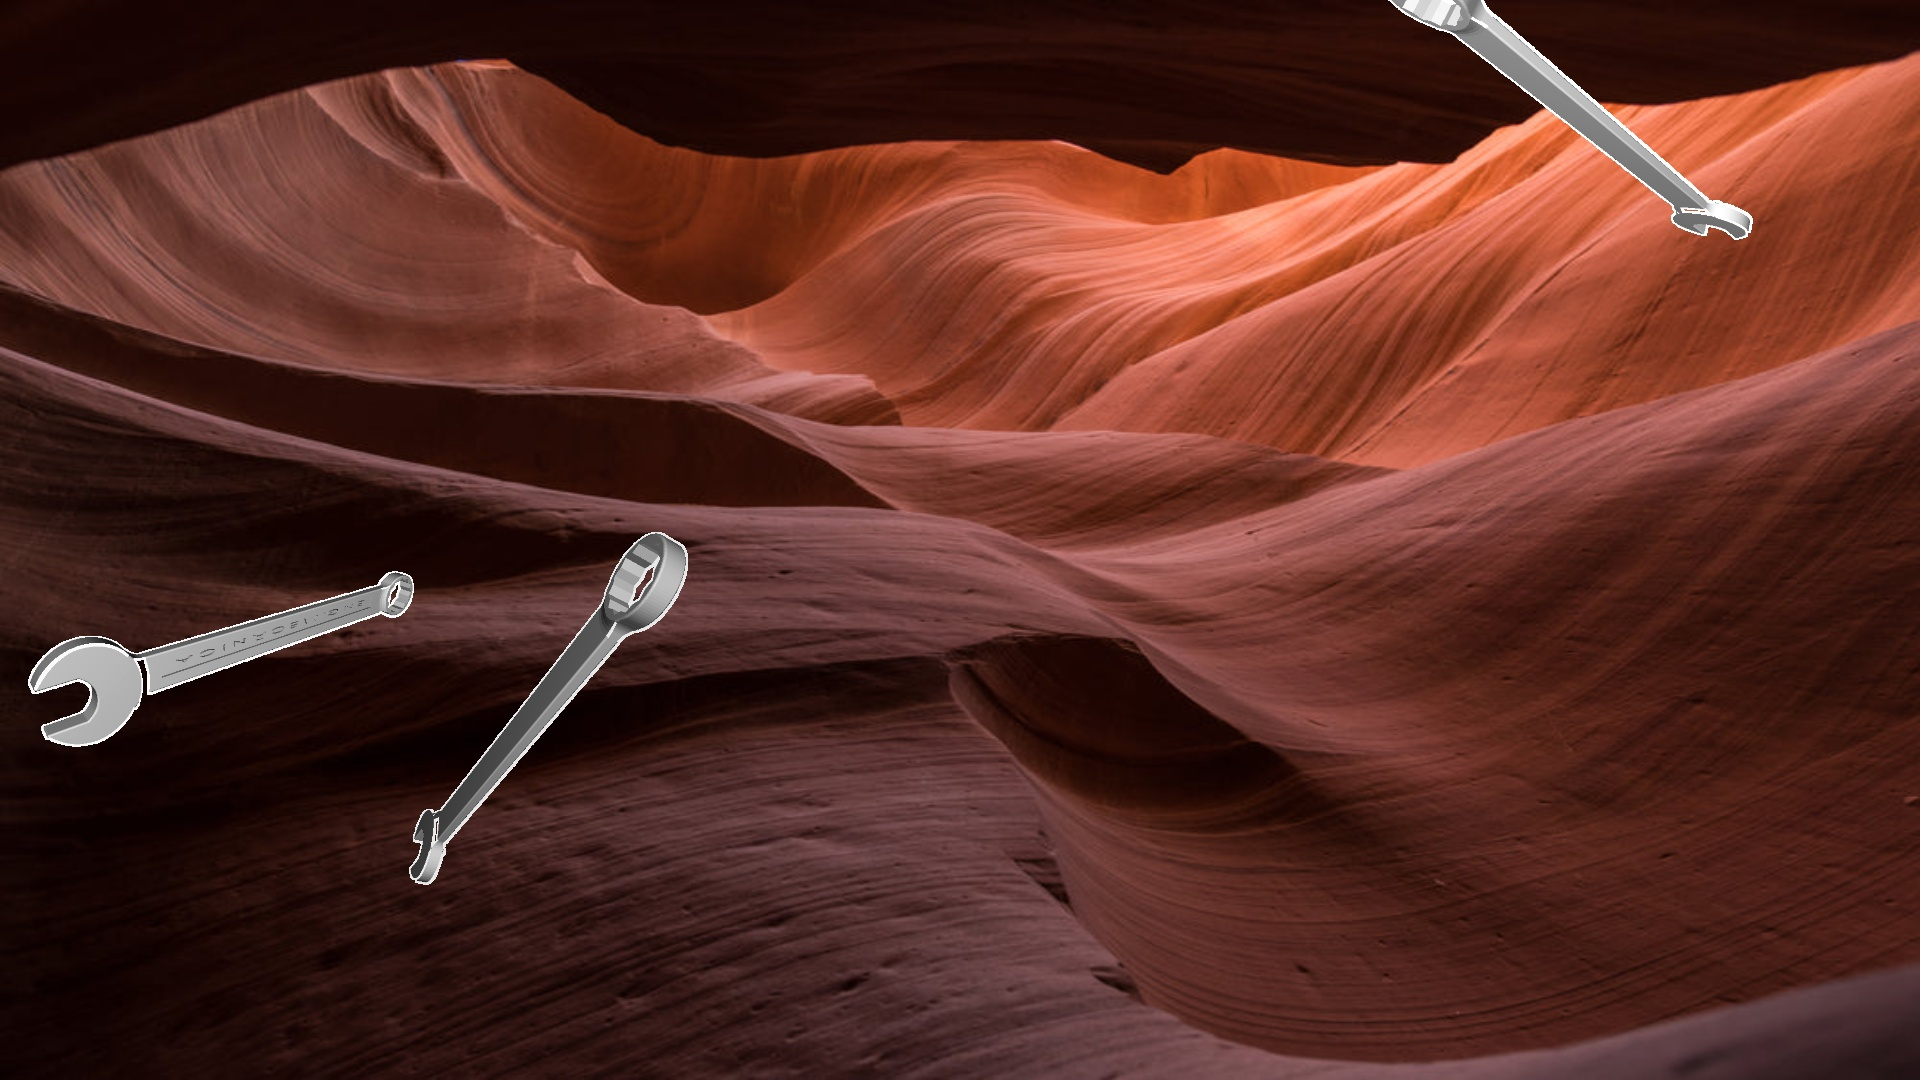Mixed Key: (409, 531, 687, 884), (1389, 0, 1753, 239), (28, 571, 413, 746)
